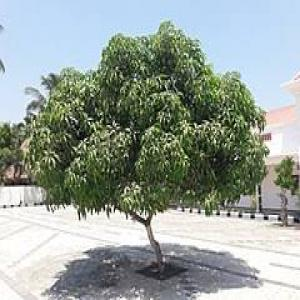Tree: (21, 20, 270, 268)
